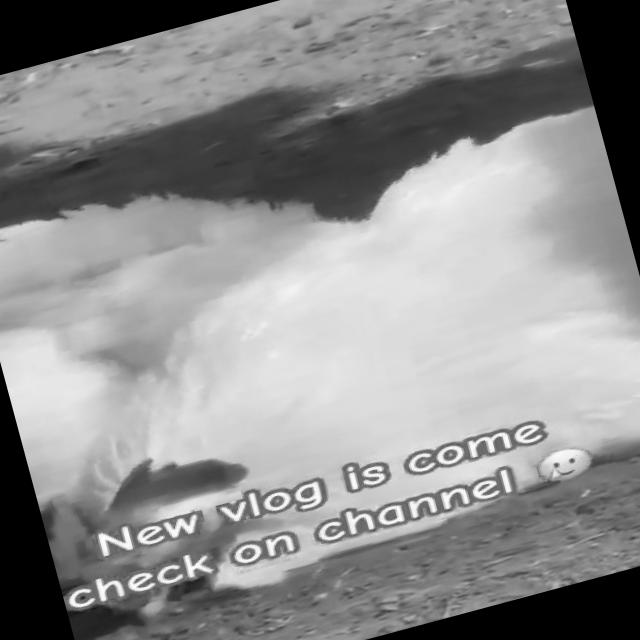stand bath: (0, 40, 640, 640)
